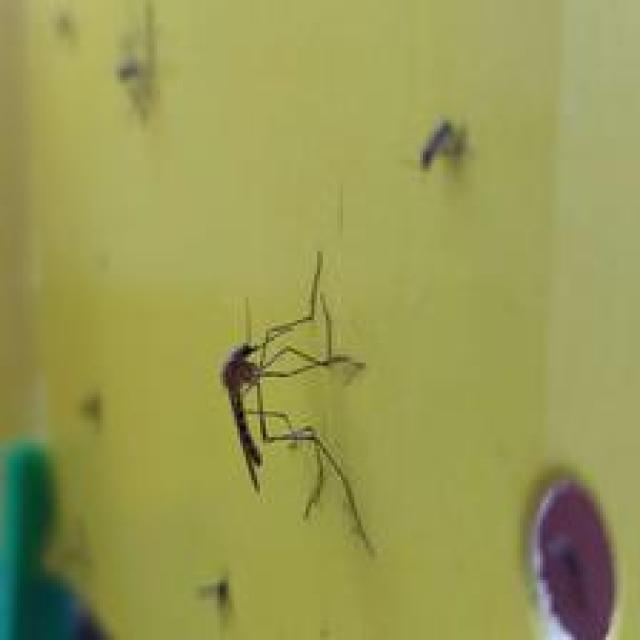Culex: (220, 249, 377, 557)
